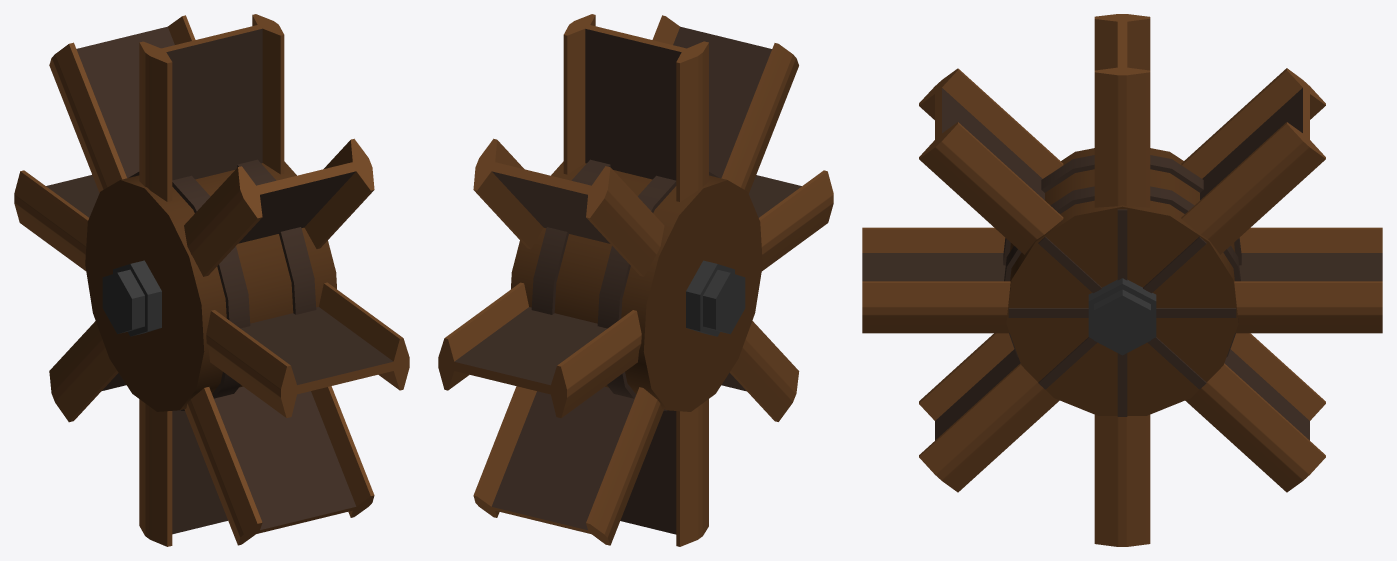
The model's file is western_mill_sphere.fbx.
The picture shows the model from 3 angles, left to right: view 1: azimuth 30°, elevation 25°; view 2: azimuth 150°, elevation 25°; view 3: azimuth 270°, elevation 25°; orthographic projection. The views are drawn at different scales.
Visible parts, largest first — view 1: pCylinder3; view 2: pCylinder3; view 3: pCylinder3.
Boxes of the visible parts, x1,y1,x2,y2 form: pCylinder3: [14, 14, 409, 546]; pCylinder3: [438, 14, 833, 546]; pCylinder3: [862, 14, 1382, 546].
Bounding box in the file's own units: 8.13 × 19.84 × 19.84.
